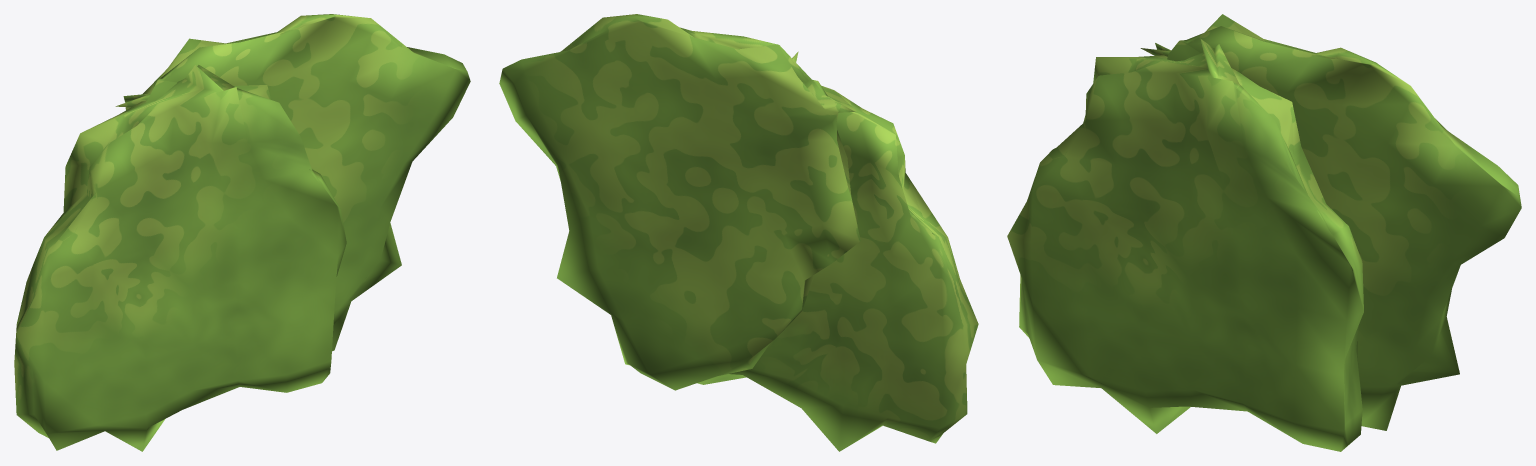
The model's file is CutLettuce.fbx.
3 renders of one model, left to right at view 1: azimuth 30°, elevation 25°; view 2: azimuth 150°, elevation 25°; view 3: azimuth 330°, elevation 25°, orthographic. The views are drawn at different scales.
Parts seen in each view (by area): view 1: cutlettuce; view 2: cutlettuce; view 3: cutlettuce.
Boxes of the visible parts, bbox=[...] form: cutlettuce: bbox=[14, 14, 470, 451]; cutlettuce: bbox=[499, 14, 978, 451]; cutlettuce: bbox=[1007, 14, 1521, 451].
Size of the model in its own units: 0.8274 by 0.673 by 0.1044.
Materials: 1 (1 with a texture image).
